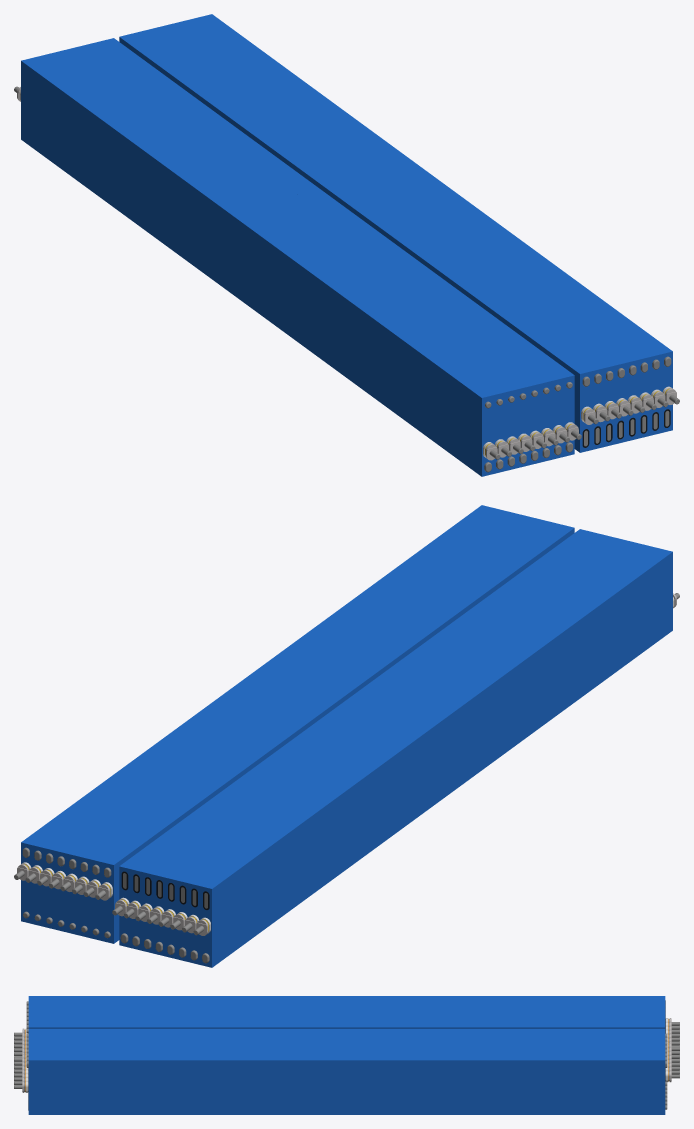
The model's file is BATTERY MODULE V1__BATTERY CELL.glb.
3 renders of one model, top to bottom at view 1: azimuth 30°, elevation 25°; view 2: azimuth 150°, elevation 25°; view 3: azimuth 270°, elevation 25°, orthographic. The views are drawn at different scales.
Visible parts, largest first — view 1: BATTERY CELL 2, BATTERY CELL 9, BATTERY CELL 8, BATTERY CELL 15, BATTERY CELL 12, BATTERY CELL 3, BATTERY CELL 11, BATTERY CELL 5, BATTERY CELL 16, BATTERY CELL 14, BATTERY CELL 4, BATTERY CELL 6 (+4 smaller); view 2: BATTERY CELL 2, BATTERY CELL 9, BATTERY CELL 15, BATTERY CELL 12, BATTERY CELL 3, BATTERY CELL 8, BATTERY CELL 5, BATTERY CELL 7, BATTERY CELL 11, BATTERY CELL 4, BATTERY CELL 16, BATTERY CELL 1 (+4 smaller); view 3: BATTERY CELL 1, BATTERY CELL 16, BATTERY CELL 3, BATTERY CELL 4, BATTERY CELL 5, BATTERY CELL 12, BATTERY CELL 13, BATTERY CELL 14, BATTERY CELL 15, BATTERY CELL 6, BATTERY CELL 7, BATTERY CELL 8 (+4 smaller).
Part boxes in pixels (x1,y1,x2,y2): BATTERY CELL 2: [14, 58, 500, 476]; BATTERY CELL 9: [119, 34, 598, 452]; BATTERY CELL 8: [131, 31, 610, 449]; BATTERY CELL 15: [91, 41, 569, 459]; BATTERY CELL 12: [56, 49, 535, 468]; BATTERY CELL 3: [189, 17, 668, 435]; BATTERY CELL 11: [44, 52, 523, 470]; BATTERY CELL 5: [166, 22, 644, 441]; BATTERY CELL 16: [102, 38, 581, 456]; BATTERY CELL 14: [79, 43, 558, 462]; BATTERY CELL 4: [177, 20, 656, 438]; BATTERY CELL 6: [154, 25, 633, 444]; BATTERY CELL 2: [193, 549, 679, 967]; BATTERY CELL 9: [95, 525, 574, 943]; BATTERY CELL 15: [124, 532, 602, 950]; BATTERY CELL 12: [158, 540, 637, 959]; BATTERY CELL 3: [25, 508, 504, 926]; BATTERY CELL 8: [83, 522, 562, 940]; BATTERY CELL 5: [49, 513, 527, 932]; BATTERY CELL 7: [72, 519, 550, 938]; BATTERY CELL 11: [170, 543, 649, 961]; BATTERY CELL 4: [37, 511, 516, 929]; BATTERY CELL 16: [112, 529, 591, 947]; BATTERY CELL 1: [14, 505, 492, 923]; BATTERY CELL 1: [14, 1056, 679, 1114]; BATTERY CELL 16: [26, 1023, 665, 1033]; BATTERY CELL 3: [14, 1052, 679, 1104]; BATTERY CELL 4: [14, 1048, 679, 1101]; BATTERY CELL 5: [14, 1044, 679, 1097]; BATTERY CELL 12: [14, 1007, 679, 1048]; BATTERY CELL 13: [14, 1011, 679, 1051]; BATTERY CELL 14: [14, 1015, 679, 1055]; BATTERY CELL 15: [14, 1019, 679, 1057]; BATTERY CELL 6: [14, 1041, 679, 1093]; BATTERY CELL 7: [14, 1037, 679, 1089]; BATTERY CELL 8: [14, 1033, 679, 1085].
Size of the model in its own units: 0.2299 by 0.0906 by 1.
